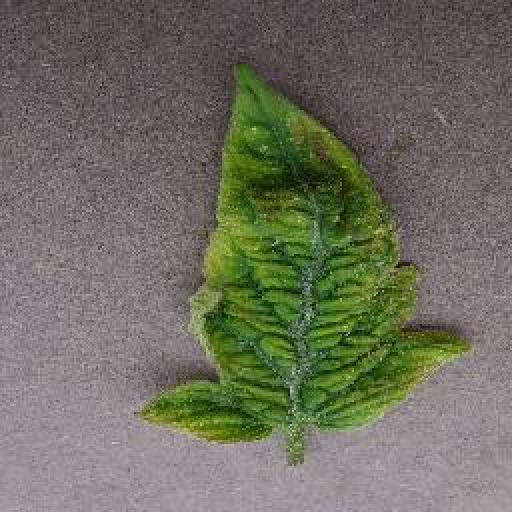disease_tomato: (133, 59, 475, 440)
